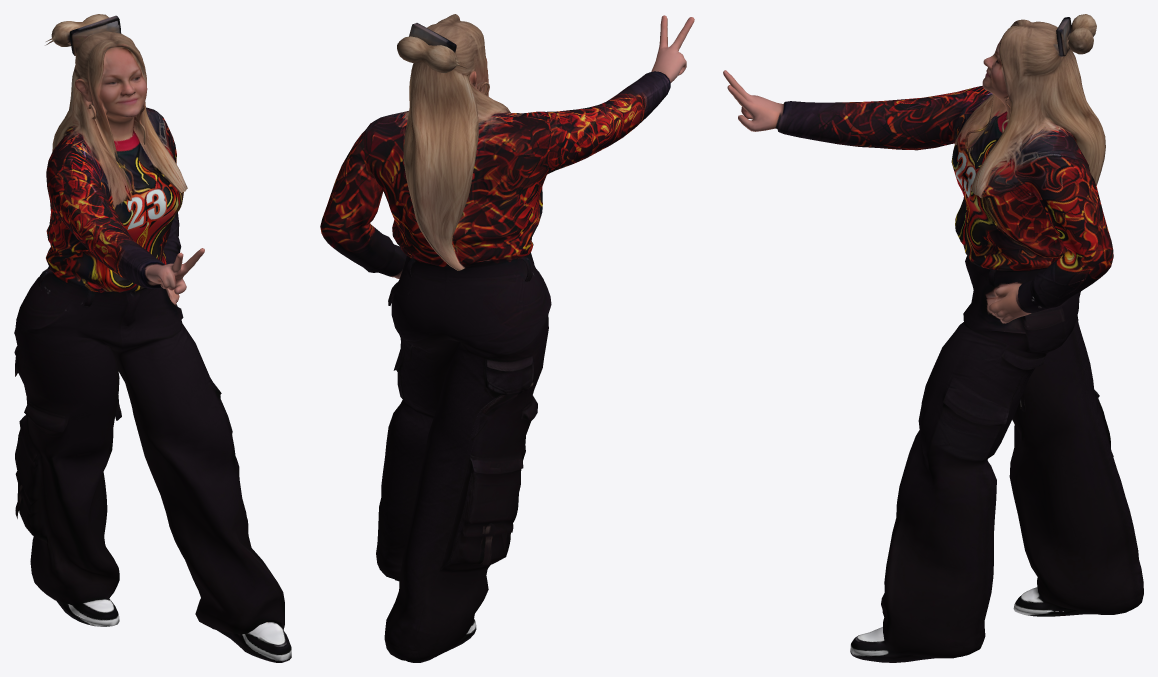
Rendered from avatar.glb.
The picture shows the model from 3 angles, left to right: view 1: azimuth 30°, elevation 25°; view 2: azimuth 150°, elevation 25°; view 3: azimuth 270°, elevation 25°; orthographic projection. The views are drawn at different scales.
Parts seen in each view (by area): view 1: tripo_04867dbb_d155_4447_be39_3a5f12da7a7a; view 2: tripo_04867dbb_d155_4447_be39_3a5f12da7a7a; view 3: tripo_04867dbb_d155_4447_be39_3a5f12da7a7a.
Boxes of the visible parts, left/top/right/bottom form: tripo_04867dbb_d155_4447_be39_3a5f12da7a7a: left=14, top=14, right=291, bottom=662; tripo_04867dbb_d155_4447_be39_3a5f12da7a7a: left=320, top=14, right=694, bottom=662; tripo_04867dbb_d155_4447_be39_3a5f12da7a7a: left=723, top=14, right=1143, bottom=662.
Size of the model in its own units: 0.3647 by 0.9995 by 0.6431.
1 material, 1 textured.
